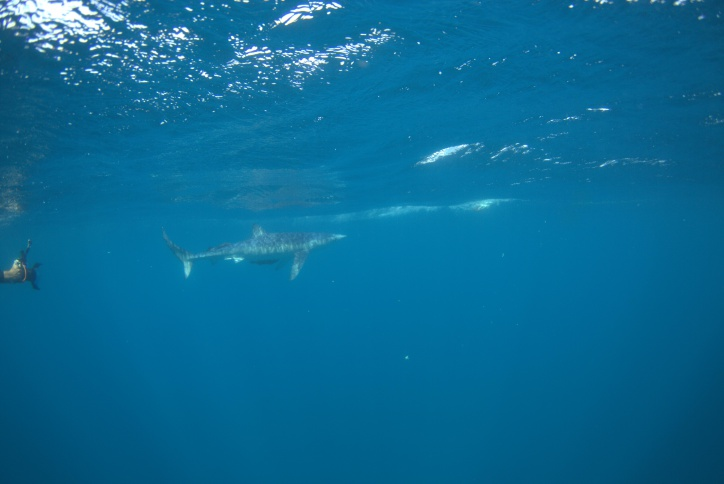Azul: (157, 208, 362, 305)
